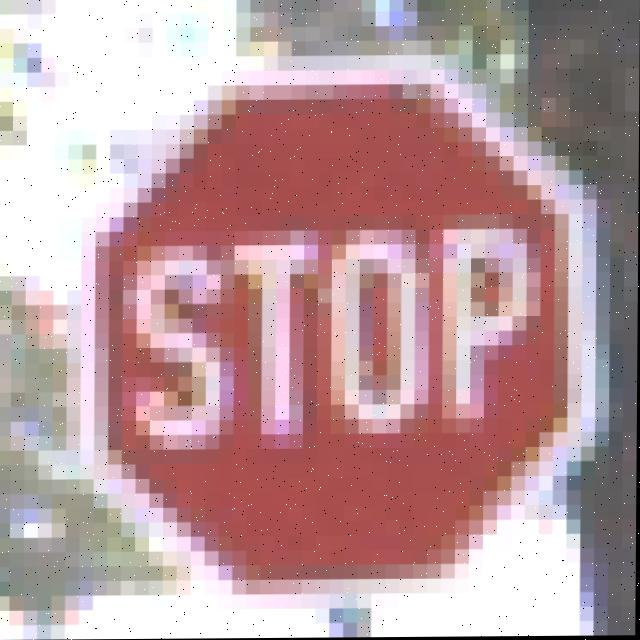stop: (76, 75, 585, 563)
